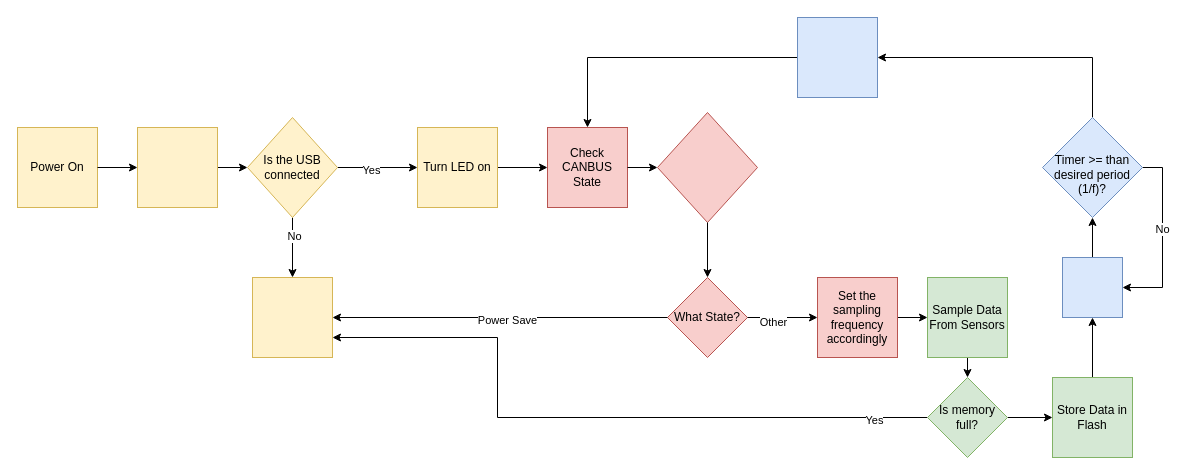
The diagram is 1188 pixels wide and 475 high, and some of its shapes have lost their labels. Here are the shapes that lost their labels. From the top down, the centre of each, then its label:
the point at 837,57: Reset Timer
the point at 177,167: Produce Start Up Tone
the point at 707,167: Is the previous state null or different
the point at 1092,287: Wait for timer
the point at 292,317: Enter Power Save
